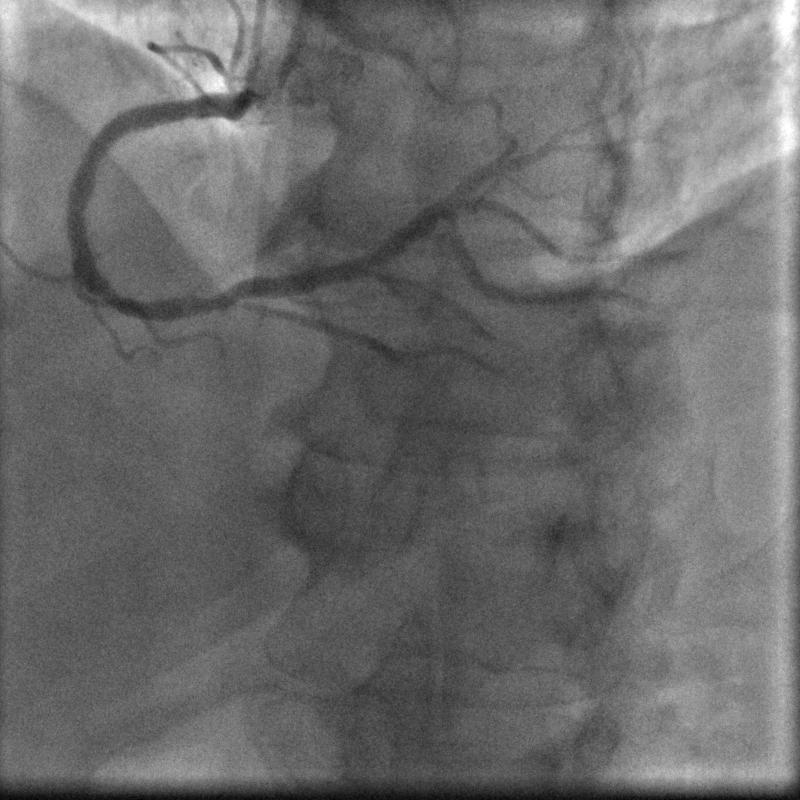Stenosis: (163, 283, 246, 316)
